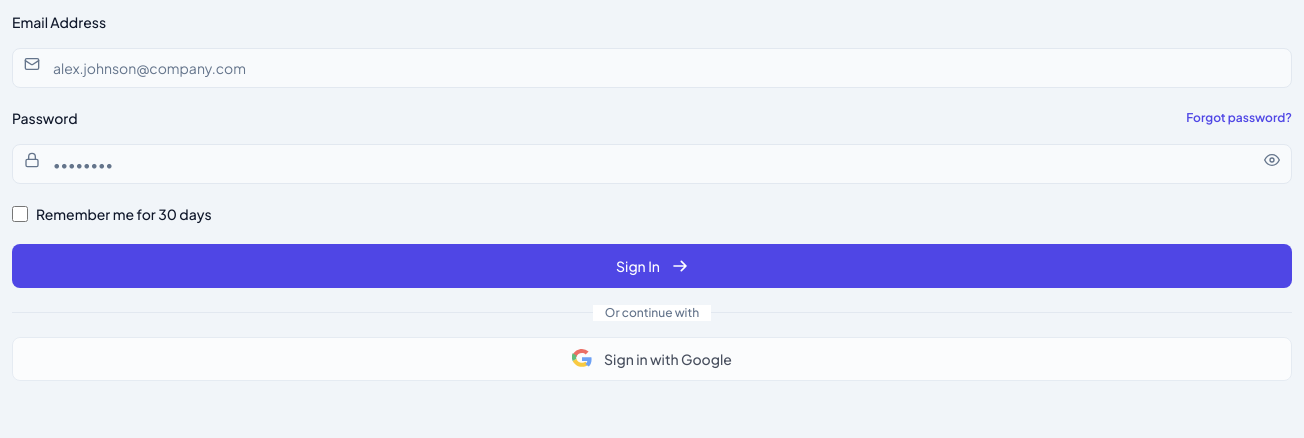
it: LoginForm › shows an error message and re-enables the form when login fails
The width and height of the screenshot is (1304, 438).
Type "admin@timeforge.test" into the field labelled "Email Address".
click(652, 68); type("admin@timeforge.test")  # box [12,48,1292,88]
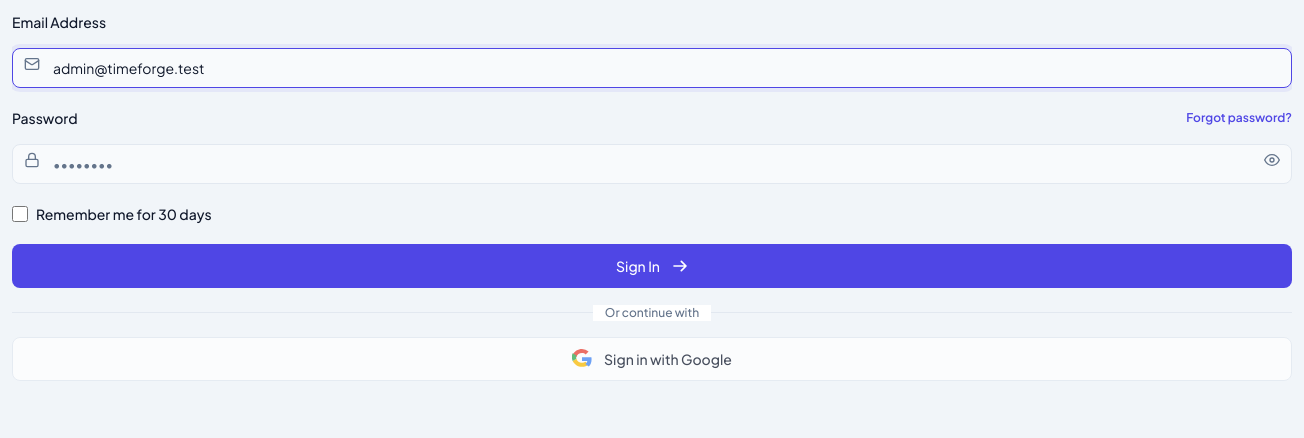
Type "wrong" into the password field labelled "Password".
click(652, 164); type("wrong")  # box [12,144,1292,184]
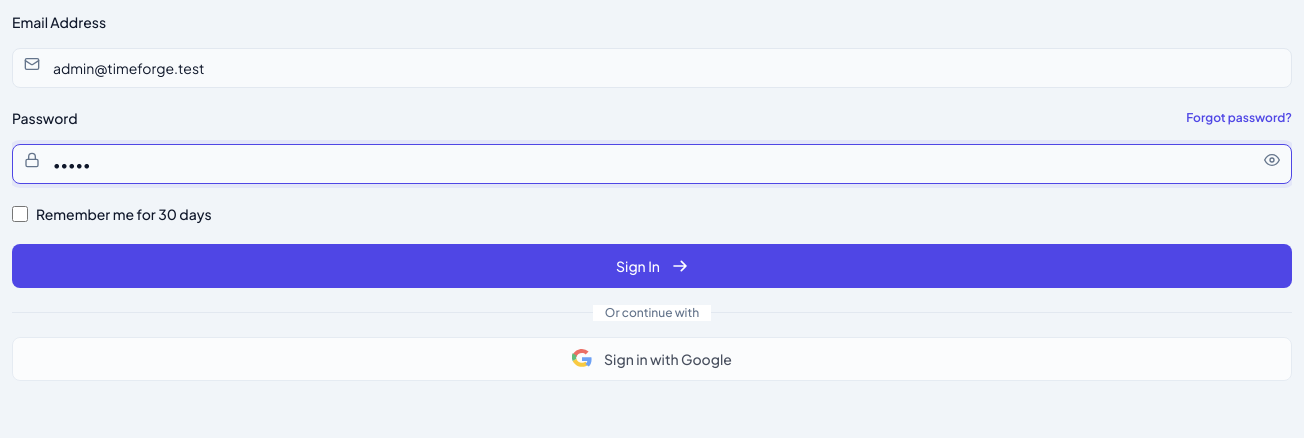
Click the button with aria-label "Log In".
click(652, 266)  # box [12,244,1292,288]
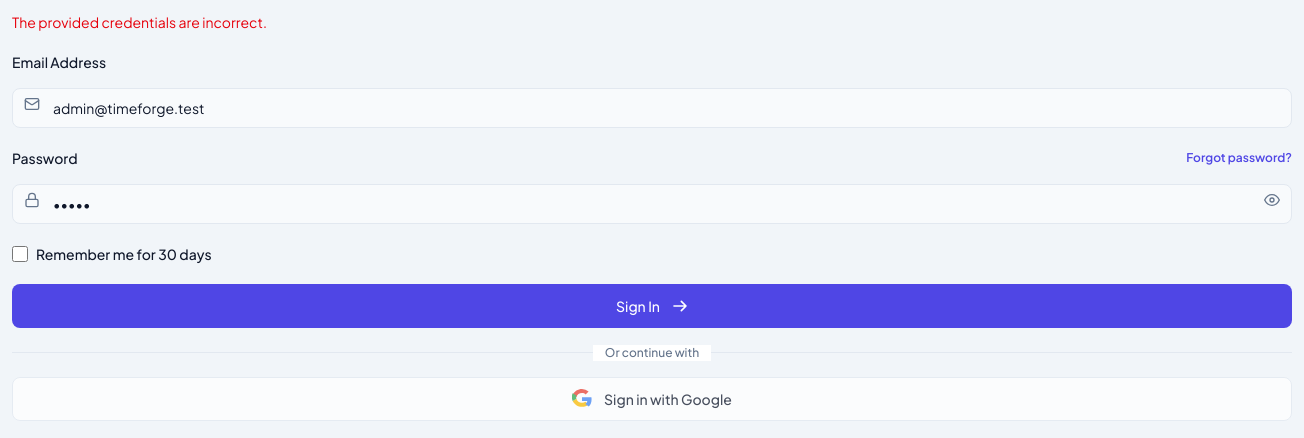
Expected: the button with aria-label "Log In" is enabled, [12,284,1292,328]
Expected: the message reads "The provided credentials are incorrect.", [12,13,267,31]
